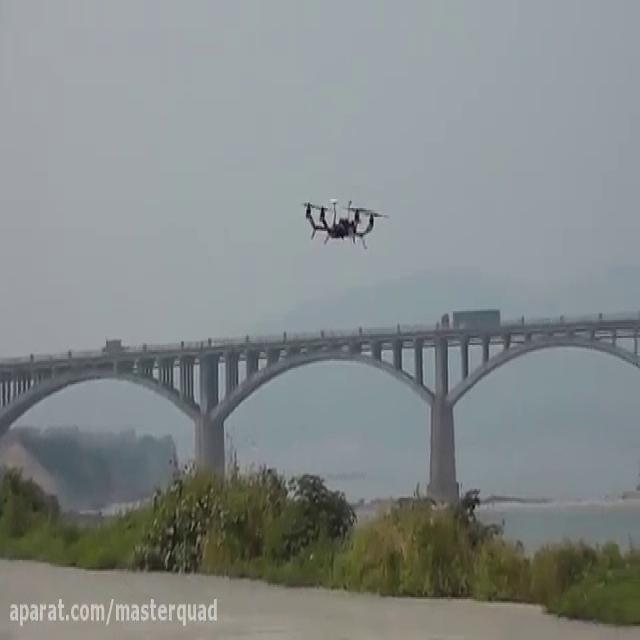drone: (296, 190, 391, 254)
